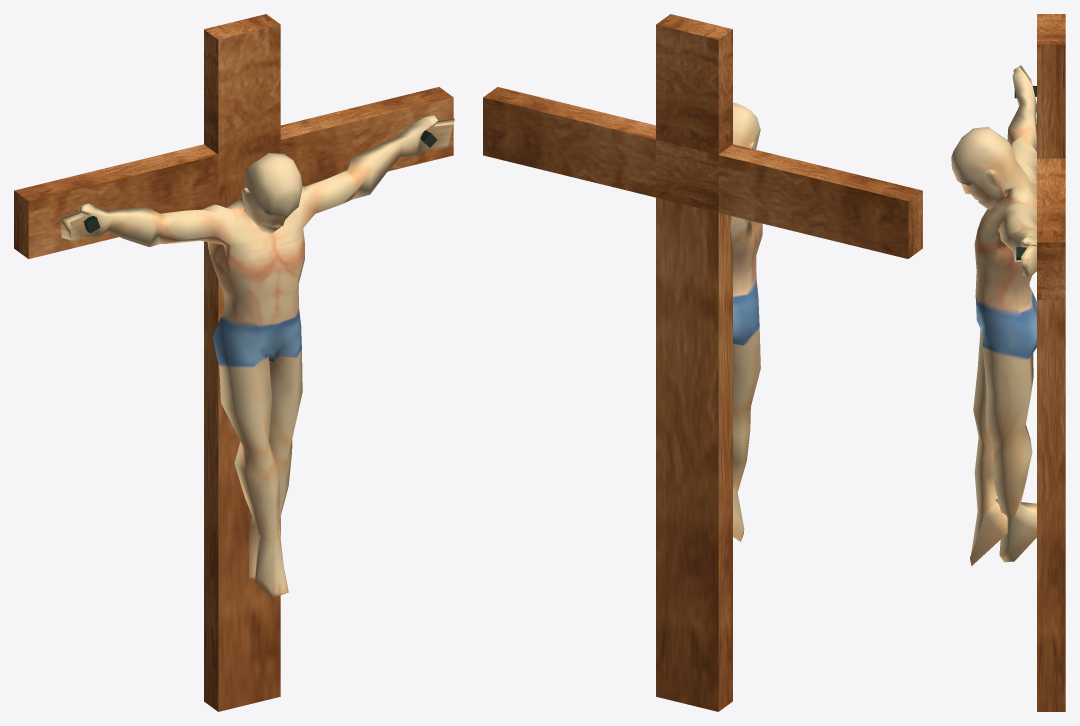
The model's file is Crucified_Male_b_1.fbx.
3 views of the same model, side by side, from view 1: azimuth 30°, elevation 25°; view 2: azimuth 150°, elevation 25°; view 3: azimuth 270°, elevation 25° (orthographic).
Parts seen in each view (by area): view 1: Body.006; view 2: Body.006; view 3: Body.006.
Boxes of the visible parts, bbox=[...] form: Body.006: bbox=[14, 14, 454, 711]; Body.006: bbox=[483, 14, 922, 711]; Body.006: bbox=[951, 14, 1065, 711].
Bounding box in the file's own units: 1.03 × 1.55 × 0.2412.
